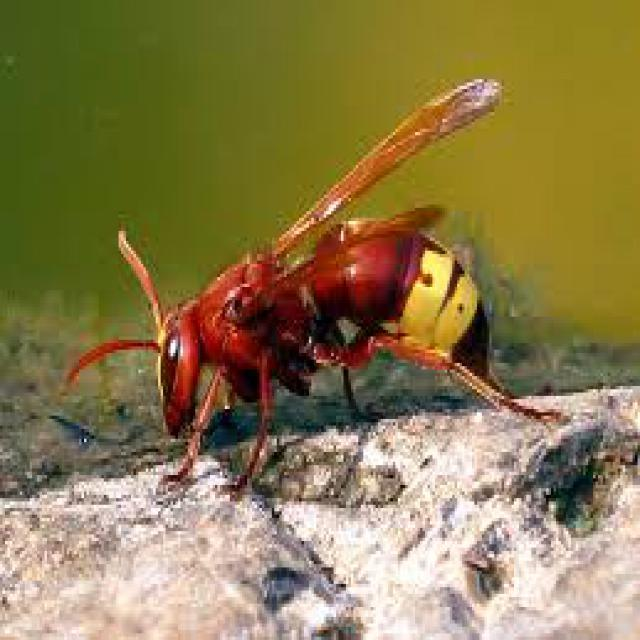Vespa Orientalis: (38, 49, 582, 514)
